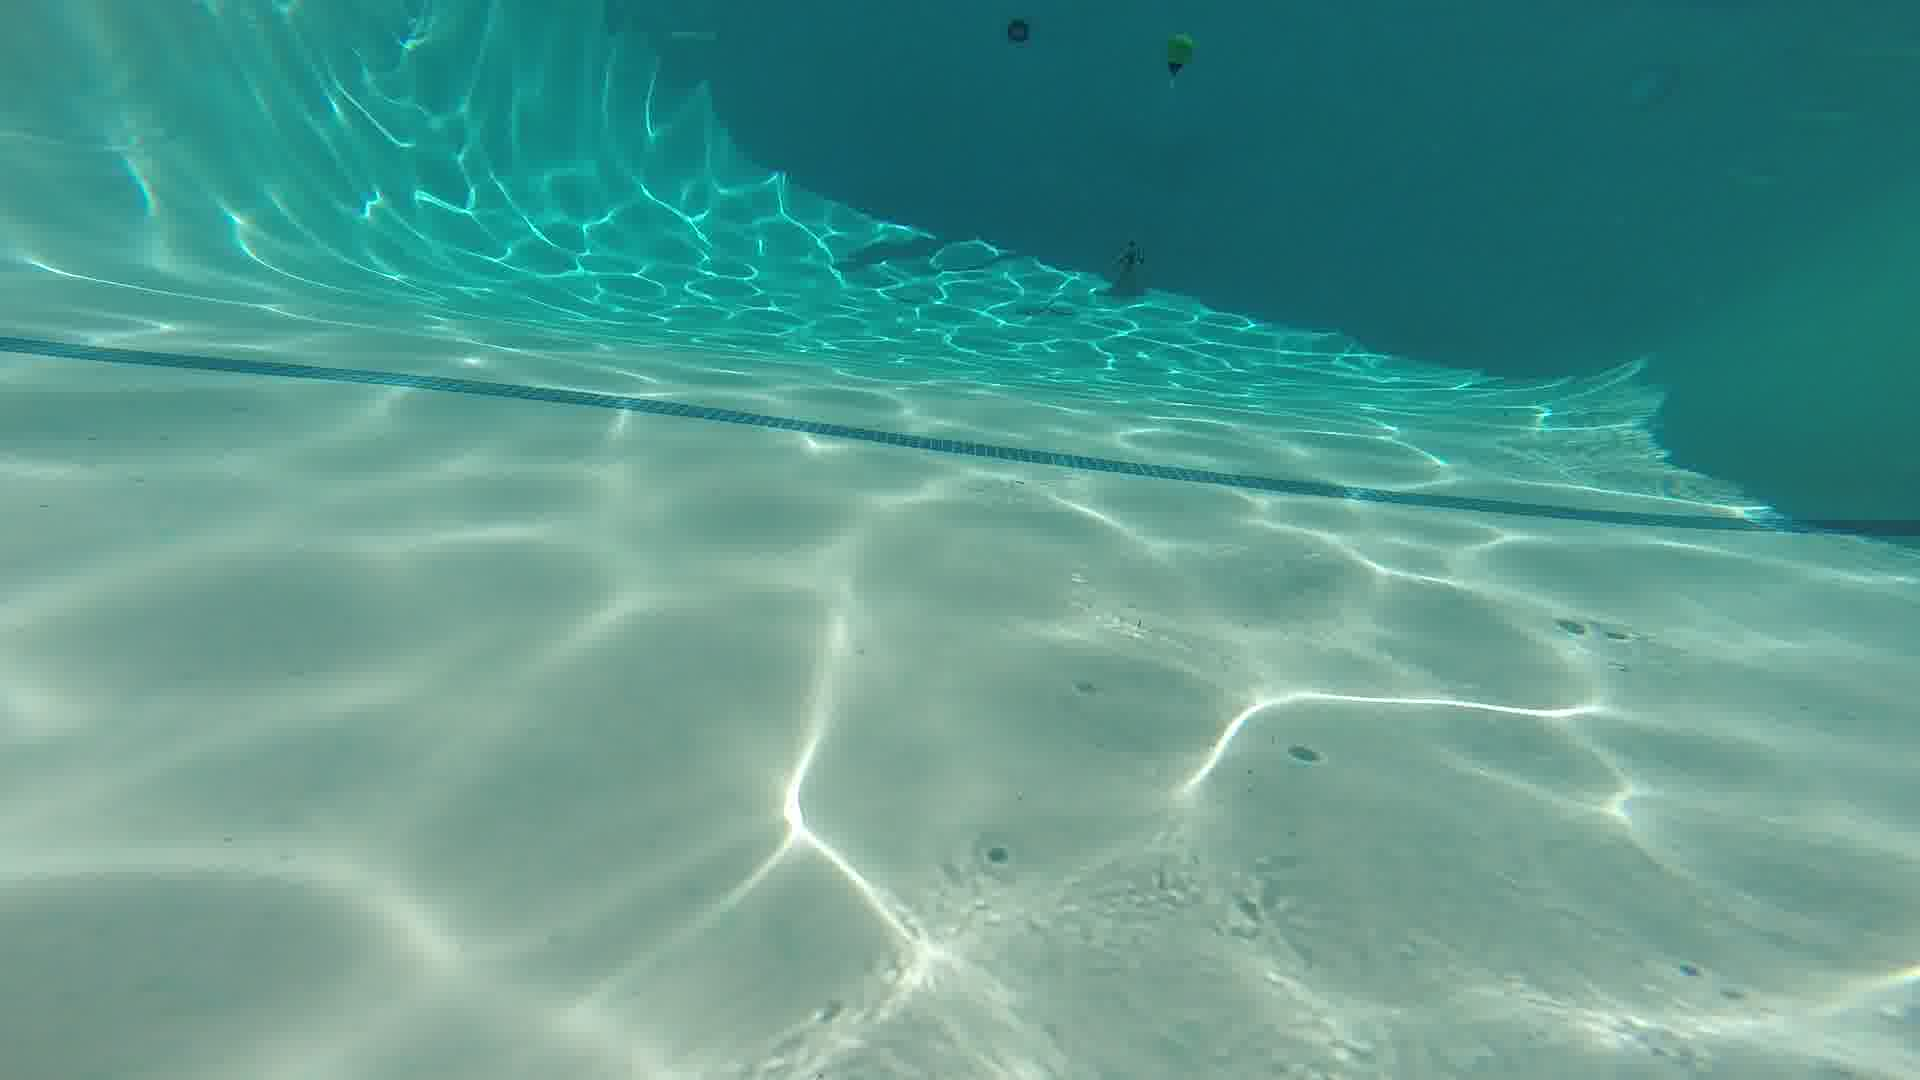yellow_buoy: (1162, 17, 1197, 88)
